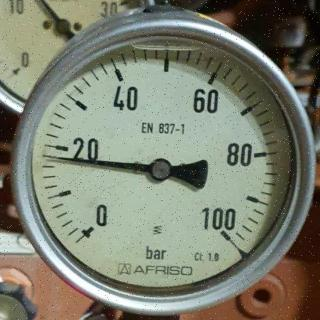gauge: (10, 19, 313, 315), (196, 204, 248, 256), (68, 200, 116, 252), (4, 52, 32, 84), (148, 156, 172, 184), (42, 150, 52, 162)
